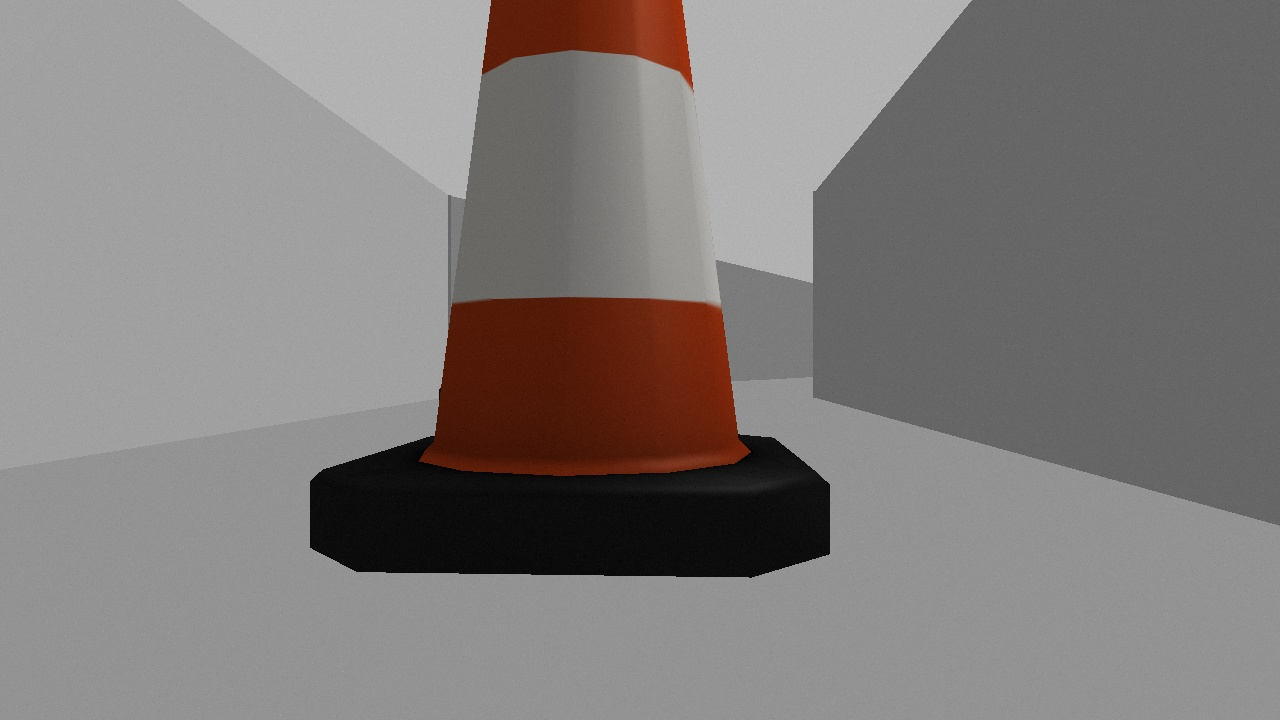barricade: (276, 1, 862, 595)
